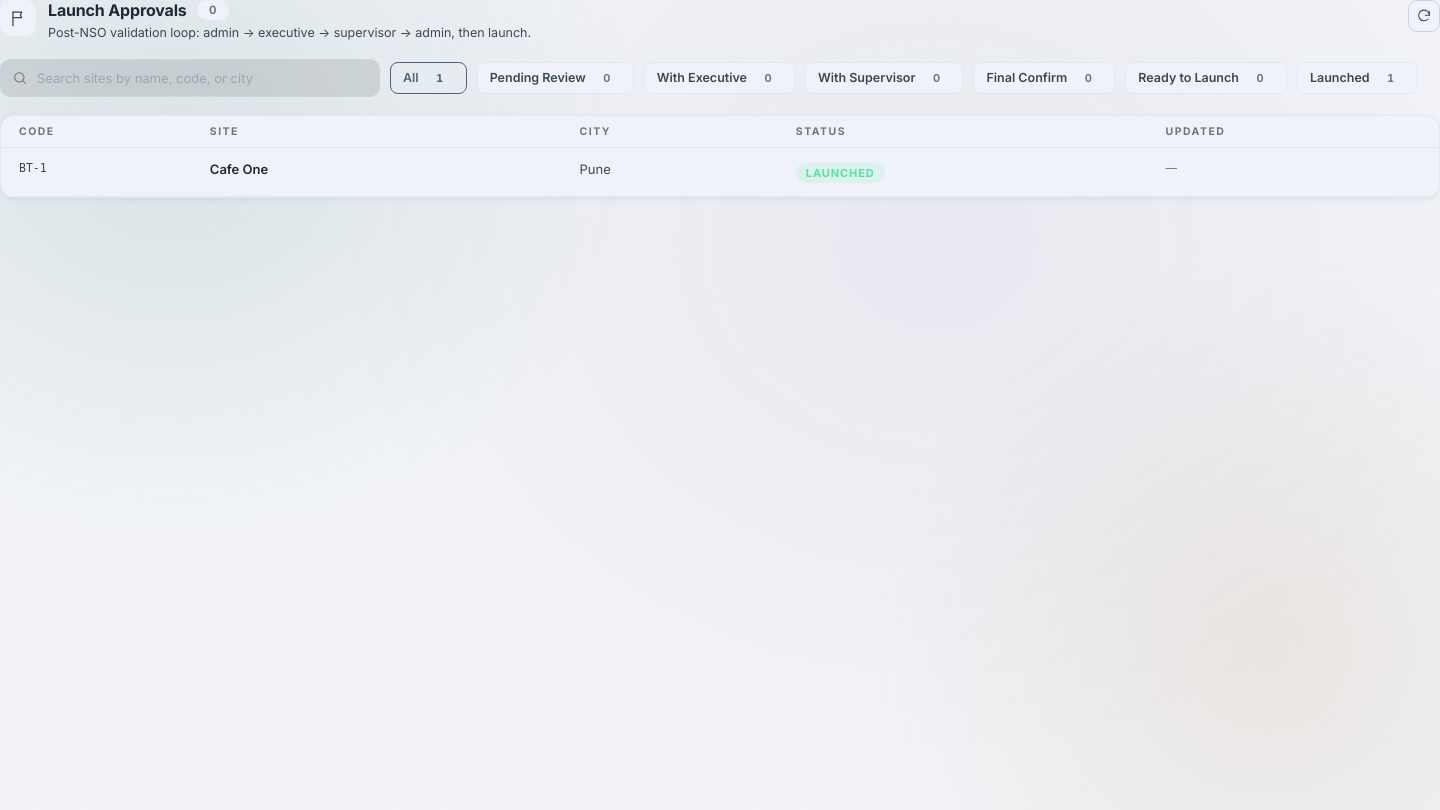
Scenario: LaunchApprovalTab — financial closure action › never arms the action for a site whose closure is already open
The image size is (1440, 810).
Click the text "Cafe One" at (239, 169), box [210,161,268,177]
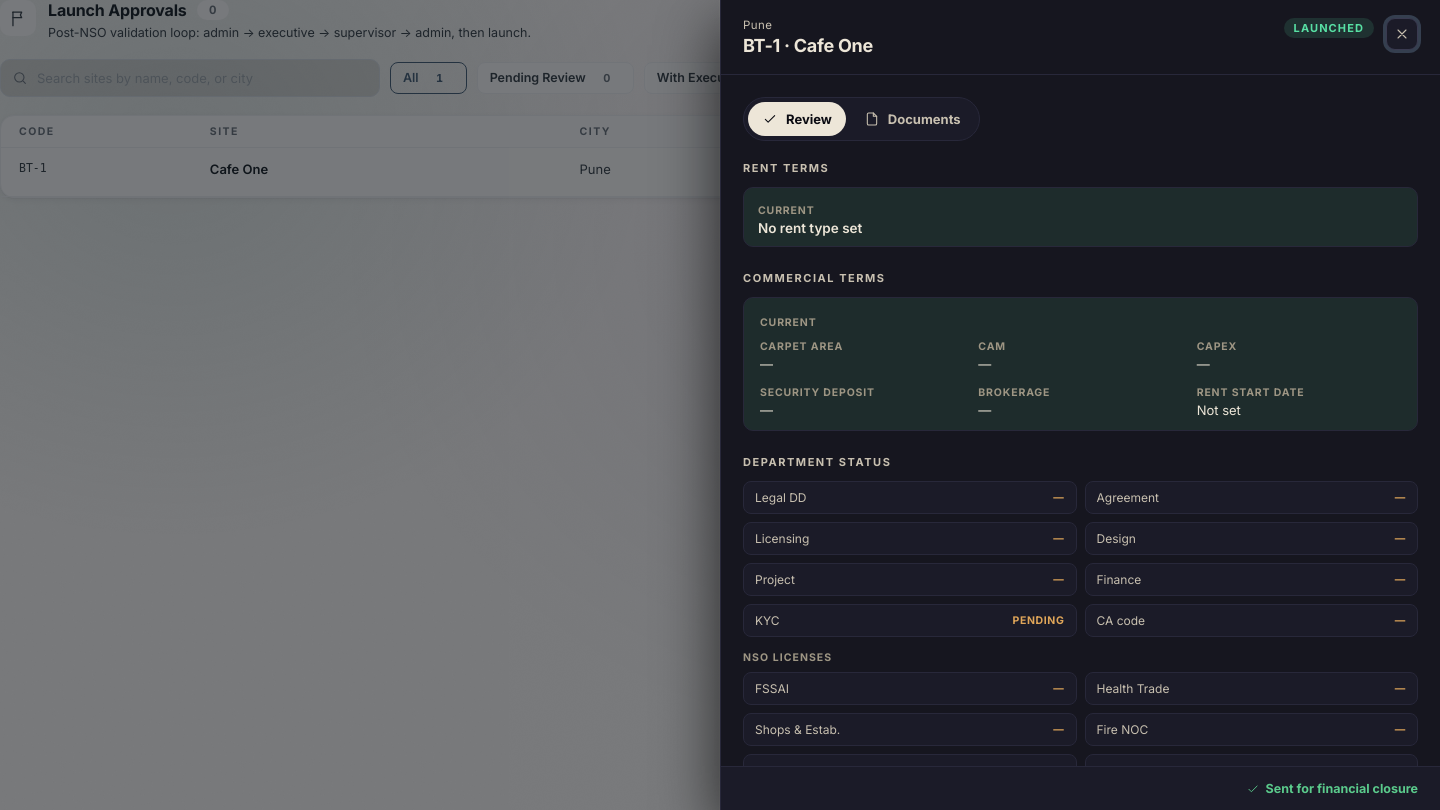
Now the text "Sent for financial closure" is shown, box [1246,781,1418,796]
